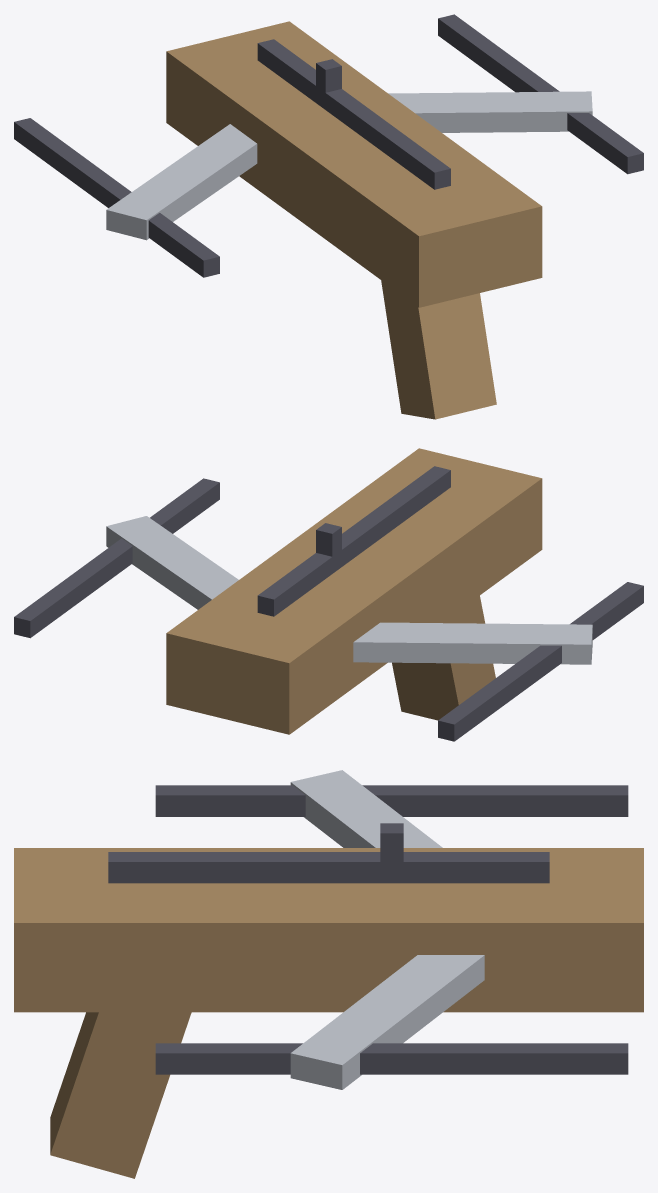
The model's file is bowman_bonus.glb.
3 renders of one model, top to bottom at view 1: azimuth 30°, elevation 25°; view 2: azimuth 150°, elevation 25°; view 3: azimuth 270°, elevation 25°, orthographic. The views are drawn at different scales.
Visible parts, largest first — view 1: body, grip, limb_l, limb_r, rail, string_l, string_r, sight_front; view 2: body, limb_l, rail, string_l, string_r, limb_r, grip, sight_front; view 3: body, grip, rail, string_r, string_l, limb_r, limb_l, sight_front.
Boxes of the visible parts, x1,y1,x2,y2 form: body: (166,21,542,307); grip: (381,280,496,419); limb_l: (106,124,257,240); limb_r: (388,91,592,132); rail: (257,39,450,189); string_l: (14,118,219,277); string_r: (438,14,643,174); sight_front: (316,59,341,101); body: (166,448,542,734); limb_l: (353,622,592,664); rail: (257,466,450,616); string_l: (438,582,643,741); string_r: (14,478,219,638); limb_r: (106,516,238,609); grip: (392,595,495,720); sight_front: (316,523,341,565); body: (14,848,643,1012); grip: (50,1012,191,1178); rail: (108,852,549,883); string_r: (155,1043,628,1074); string_l: (155,785,628,816); limb_r: (290,955,484,1089); limb_l: (290,770,442,847); sight_front: (380,823,403,876).
Size of the model in its own units: 0.3548 by 0.186 by 0.32.
